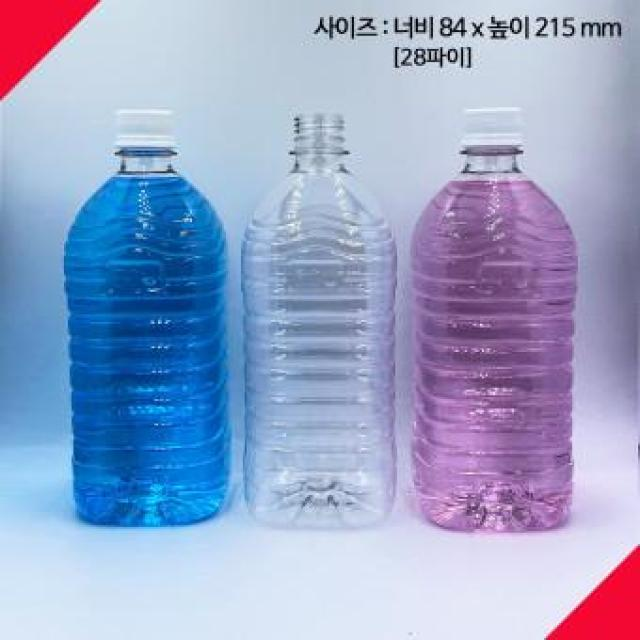bottle: (407, 106, 574, 534), (64, 109, 232, 525), (239, 110, 399, 530)
